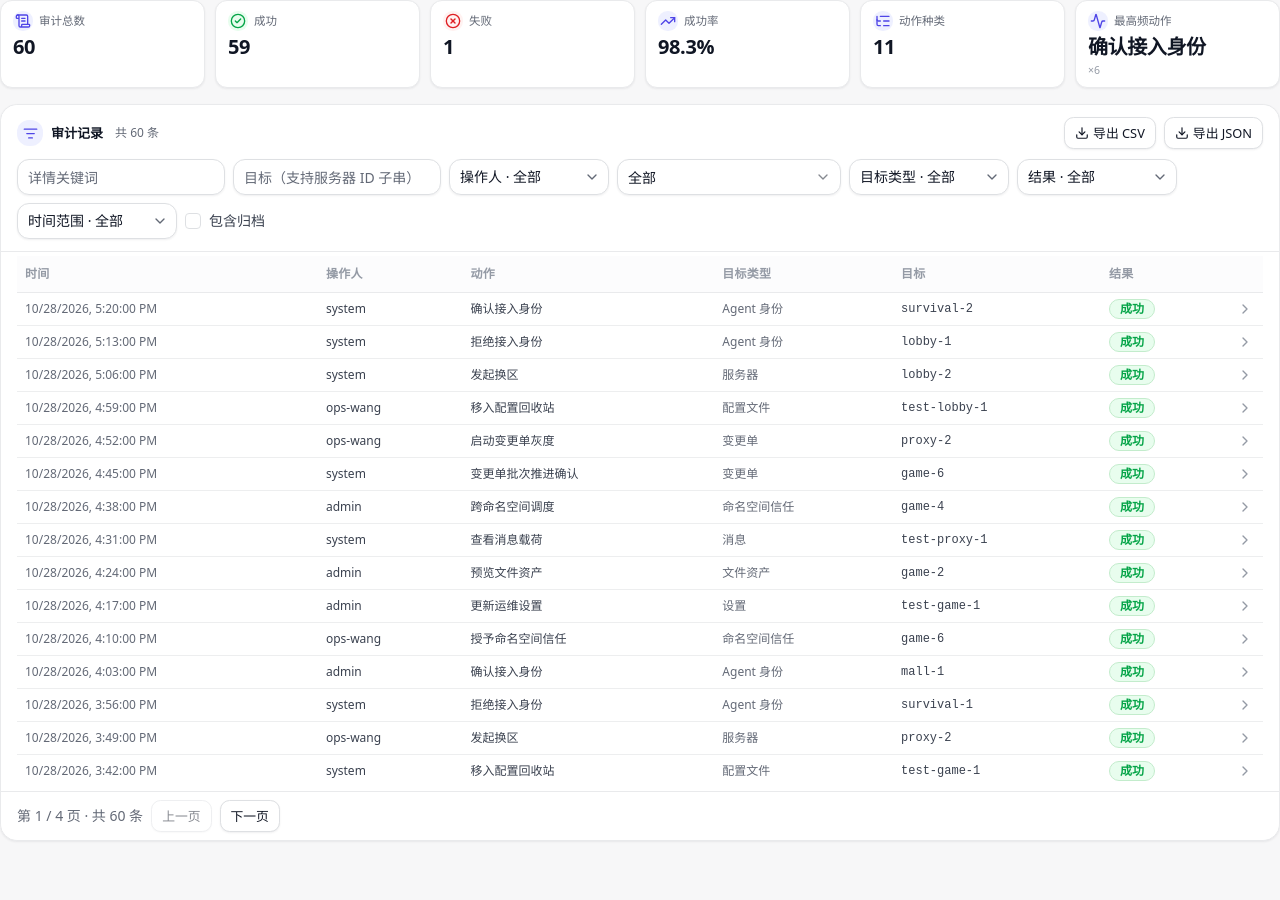
Test: /audits 动作筛选与后端枚举同源 › 候选覆盖后端全部动作（157 项 + 全部），且含旧手写清单缺失的动作
# 展开候选：数量必须等于生成物全量 +1（「全部」首项），这是「选得到」的核心断言
What coordinates should you click on to do the following:
click the dropdown named "动作"
I would click on:
 (729, 177)
Its box is [617,159,841,195].
(page scrolled)
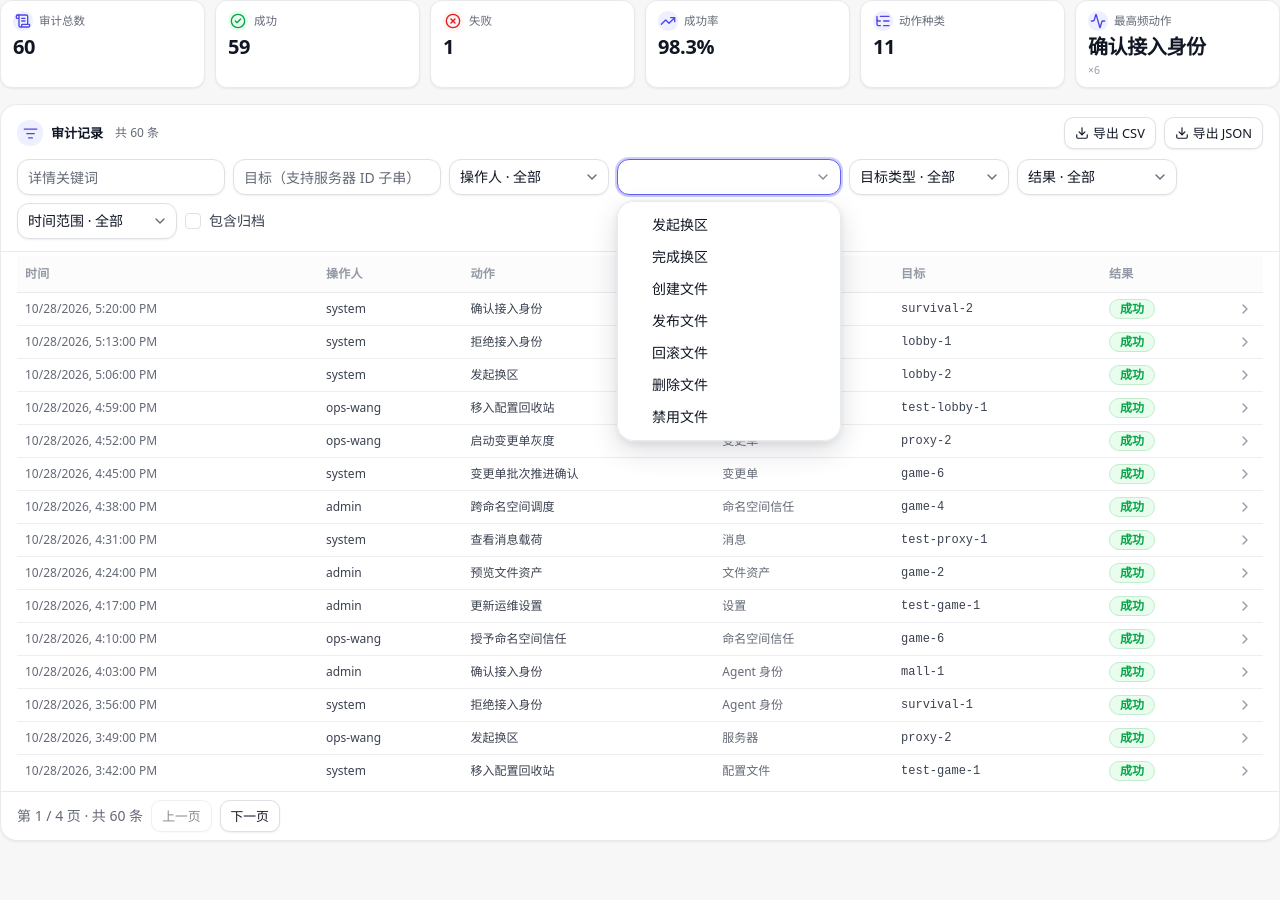
Result: the option "发布文件" is shown at [652,311,708,330]
